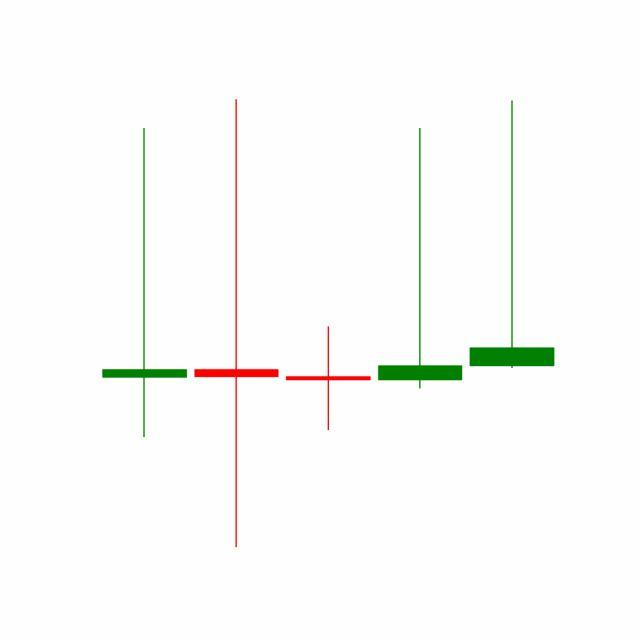Gravestone Doji: (466, 98, 559, 372)
